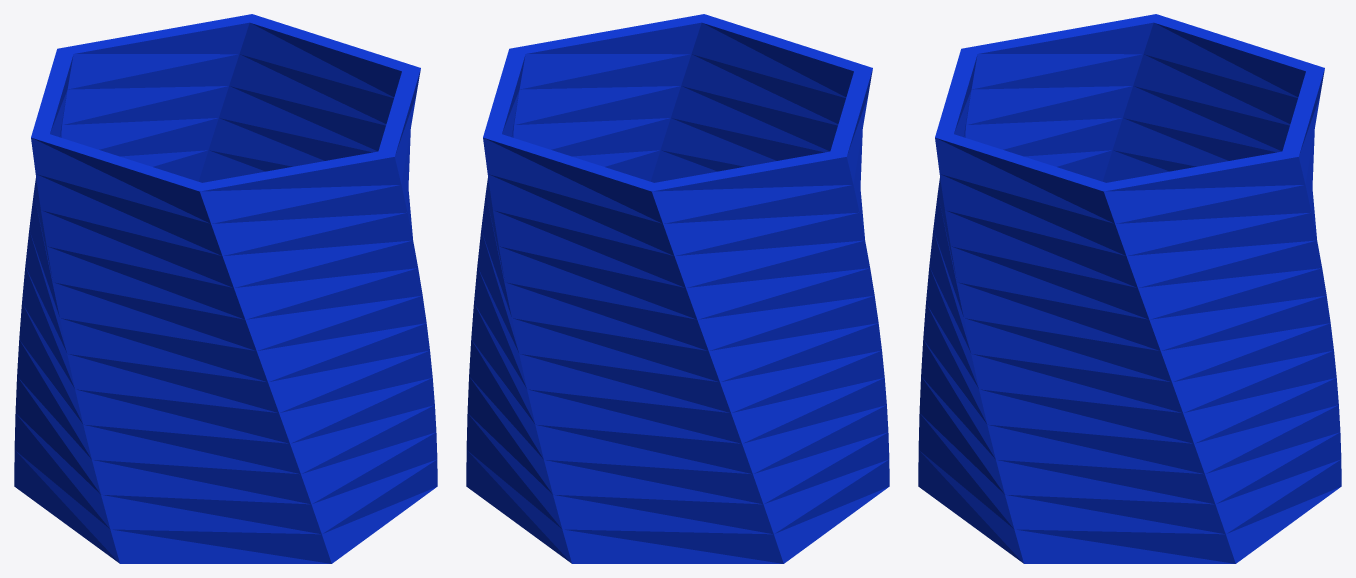
File: portalapices-twist.glb
3 views of the same model, side by side, from view 1: azimuth 30°, elevation 25°; view 2: azimuth 150°, elevation 25°; view 3: azimuth 270°, elevation 25° (orthographic).
Parts seen in each view (by area): view 1: portalapices-twist; view 2: portalapices-twist; view 3: portalapices-twist.
Part boxes in pixels (x1,y1,x2,y2): portalapices-twist: [14, 14, 437, 563]; portalapices-twist: [466, 14, 889, 563]; portalapices-twist: [918, 14, 1341, 563].
Bounding box in the file's own units: 0.108 × 0.108 × 0.108.
